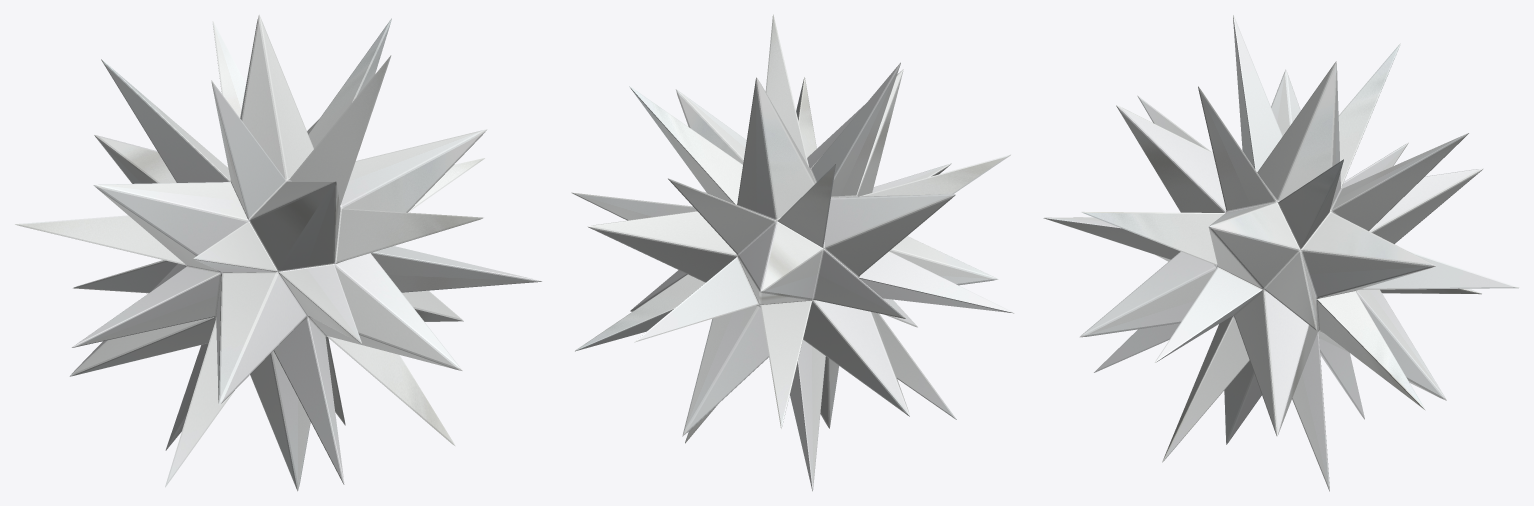
The model's file is Decor_ Hedgehog.obj.
3 renders of one model, left to right at view 1: azimuth 30°, elevation 25°; view 2: azimuth 150°, elevation 25°; view 3: azimuth 270°, elevation 25°, orthographic. The views are drawn at different scales.
Parts seen in each view (by area): view 1: Hedra001; view 2: Hedra001; view 3: Hedra001.
Part boxes in pixels (x1,y1,x2,y2): Hedra001: (15, 14, 541, 491); Hedra001: (571, 14, 1014, 491); Hedra001: (1043, 14, 1519, 491).
Size of the model in its own units: 29.56 by 26.82 by 29.37.
Materials: 1 (1 with a texture image).
